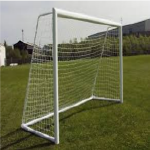goals: (21, 7, 124, 145)
